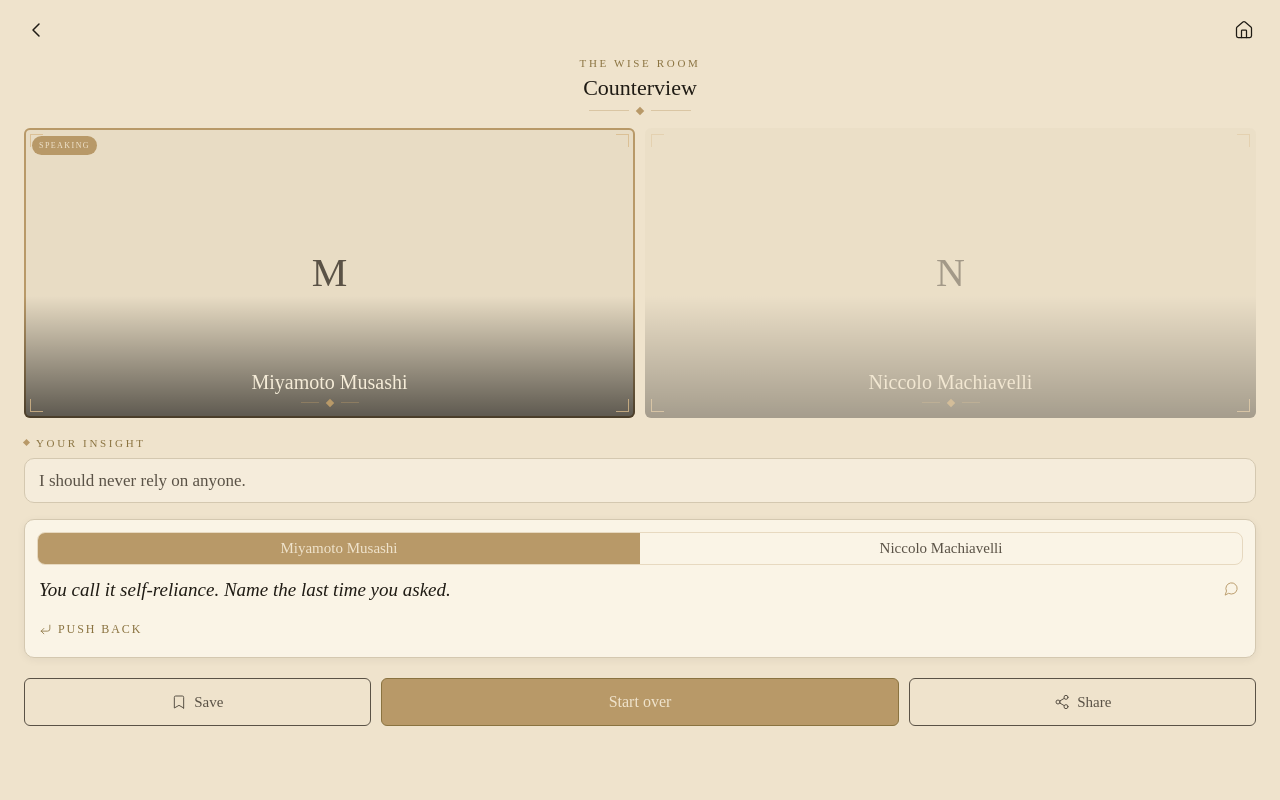
Test: go deeper — when the request FAILS › keeps the tap and offers a retry, rather than reporting exhaustion
Expected: the text "You call it self-reliance. Name the last time you asked." is shown, x1=39 y1=579 x2=451 y2=600
Click the button named "go deeper" at (1232, 589), box x1=1222 y1=579 x2=1241 y2=598
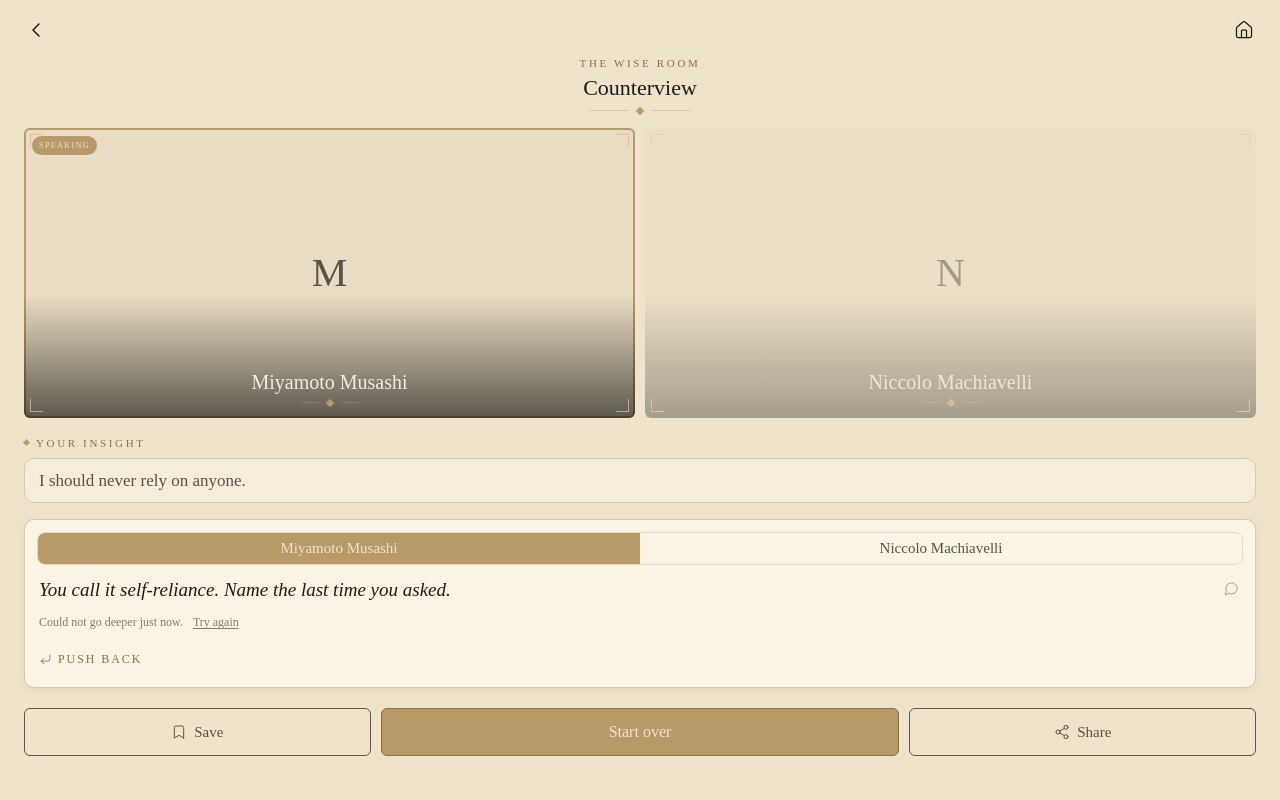
Expected: the text "Could not go deeper just now." is shown, x1=39 y1=613 x2=183 y2=633
Expected: the button "Try again" is shown, x1=193 y1=613 x2=239 y2=633
